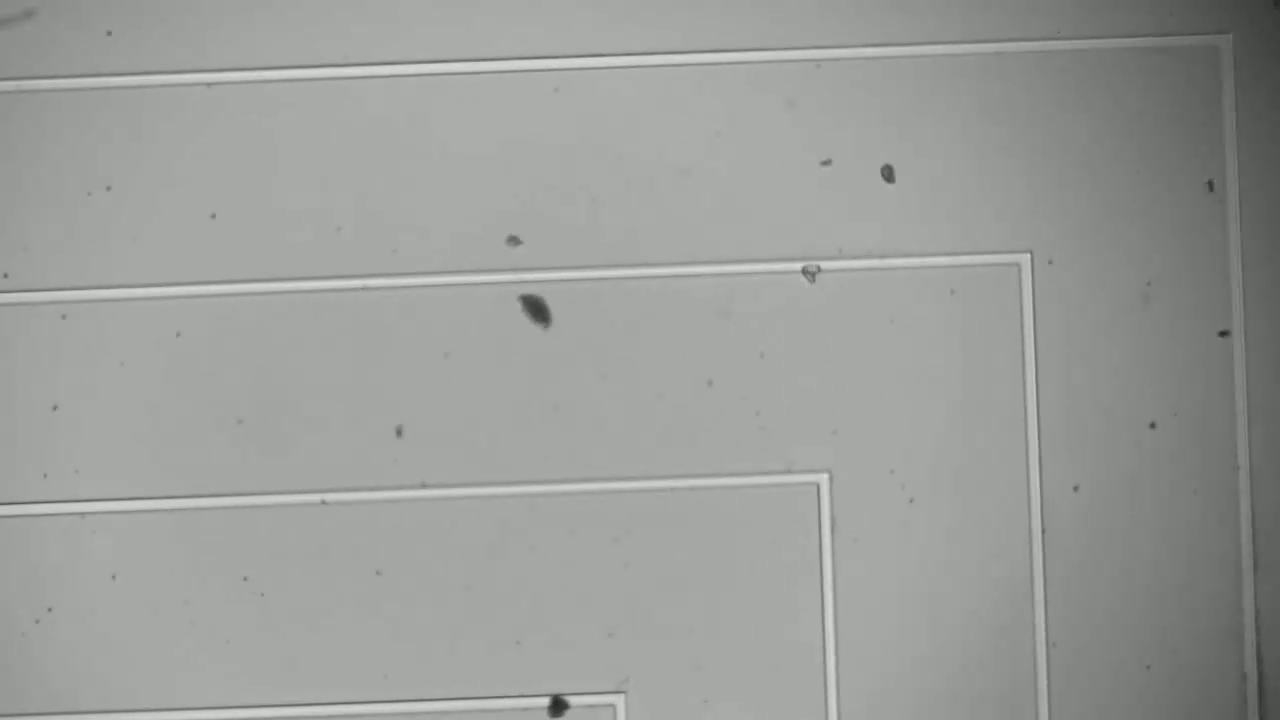stains_enbedded: (793, 247, 831, 292), (540, 680, 580, 720)
